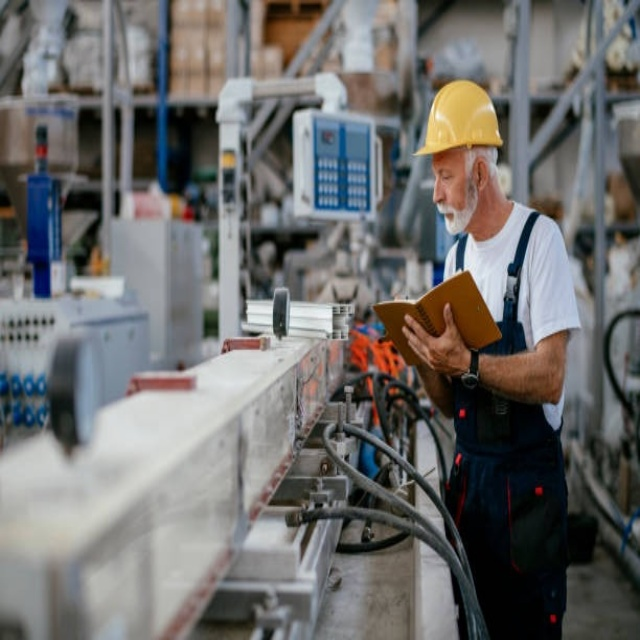Sin_gafas: (432, 158, 463, 188)
Sin_guantes: (400, 300, 467, 376)
Sin_mascara: (432, 195, 462, 235)
